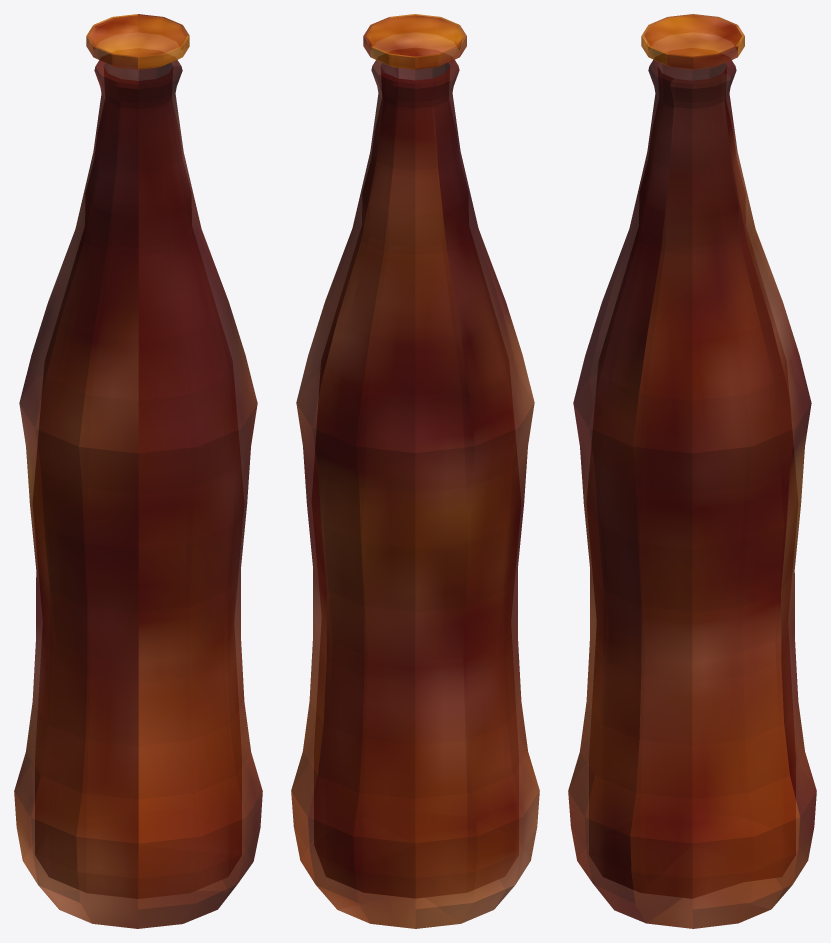
File: Garrafa.fbx
The picture shows the model from 3 angles, left to right: view 1: azimuth 30°, elevation 25°; view 2: azimuth 150°, elevation 25°; view 3: azimuth 270°, elevation 25°; orthographic projection.
Parts seen in each view (by area): view 1: Garrafa; view 2: Garrafa; view 3: Garrafa.
Boxes of the visible parts, x1,y1,x2,y2 form: Garrafa: (14,14,262,928); Garrafa: (291,14,539,928); Garrafa: (568,14,816,928).
Bounding box in the file's own units: 16.13 × 61.16 × 16.13.
